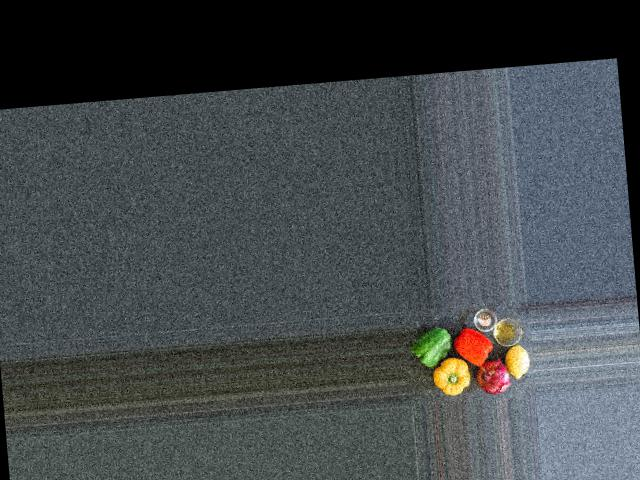bell_pepper: (453, 324, 493, 369)
